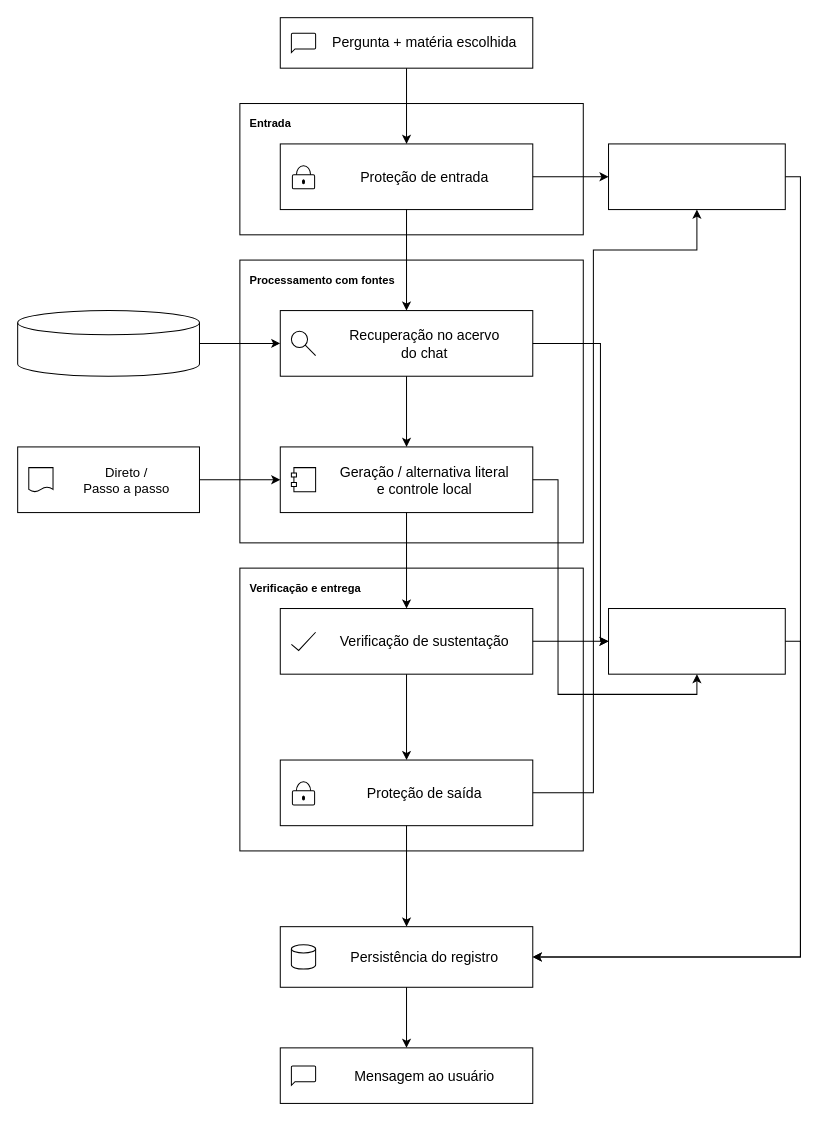
Image size: 826x1121. Some labels were removed from this diagram. Each missing label, with the centre of its shape:
"Bloqueio ou orientação de cuidado" belongs at [696,176].
"Informar insuficiência de apoio" belongs at [696,641].
"Índice: 40 blocos de 10 chats" belongs at [108,343].
